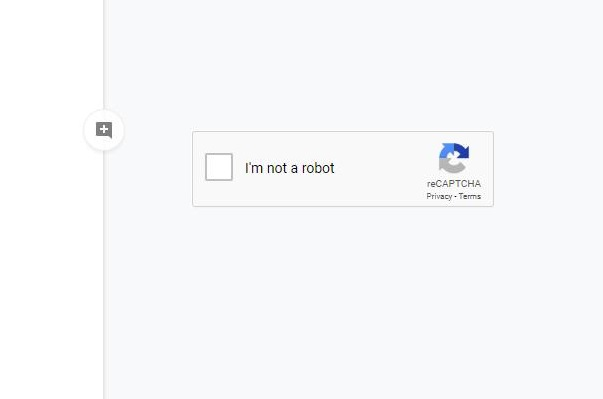captcha: (205, 153, 339, 181)
